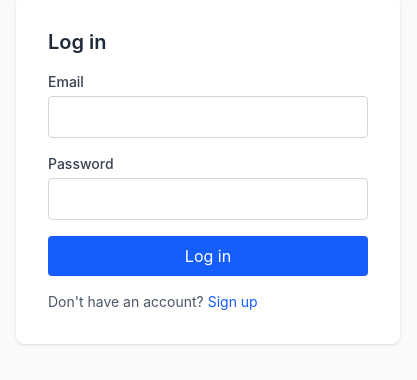
Scenario: LoginPage › submits valid input and shows the API error on failure
The width and height of the screenshot is (417, 380).
Type "ada@example.com" into the field labelled "Email" at coordinates (208, 117), box x1=48 y1=96 x2=368 y2=138
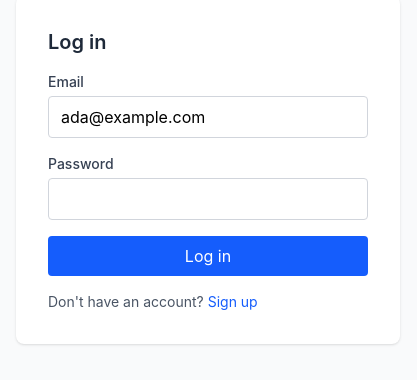
Type "Secret1!" into the password field labelled "Password" at coordinates (208, 199), box x1=48 y1=178 x2=368 y2=220
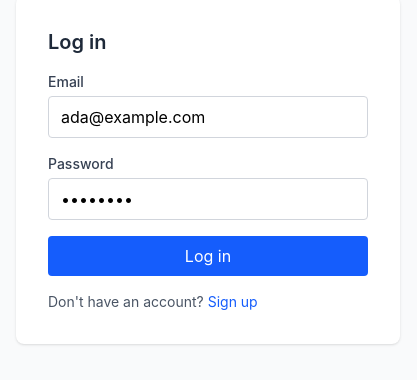
Click the button "Log in" at coordinates (208, 256), box x1=48 y1=236 x2=368 y2=276
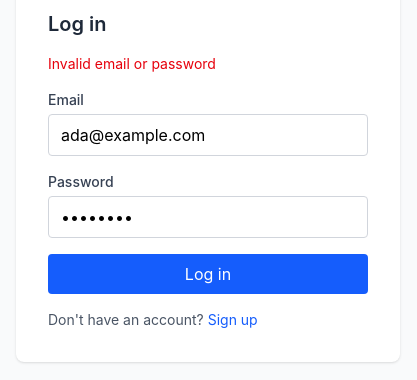
Result: the text "Invalid email or password" is shown at x1=48 y1=55 x2=216 y2=72
